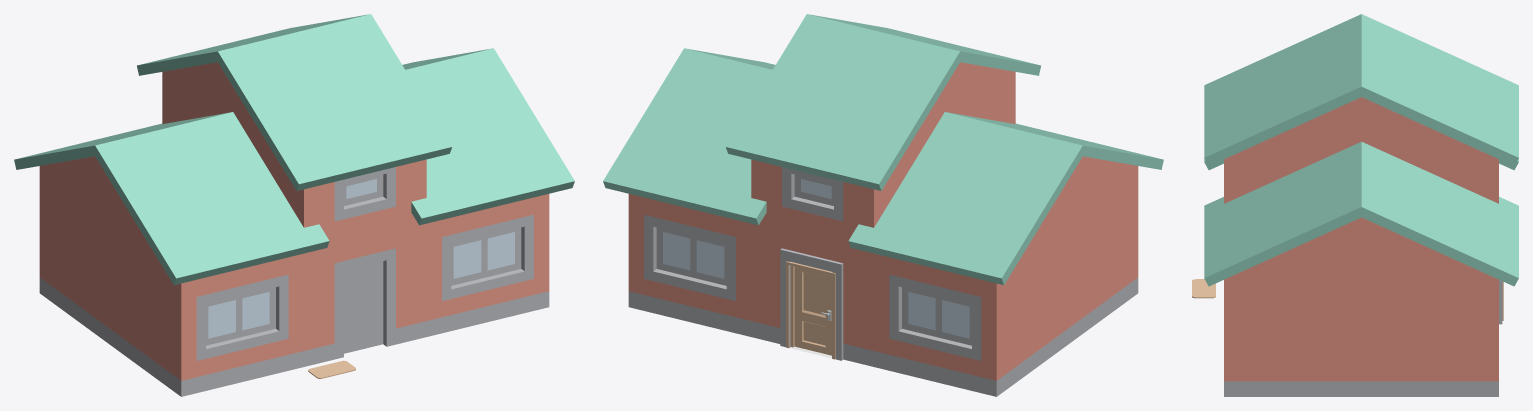
Rendered from player_house_stuff.gltf.
3 renders of one model, left to right at view 1: azimuth 30°, elevation 25°; view 2: azimuth 150°, elevation 25°; view 3: azimuth 270°, elevation 25°, orthographic. The views are drawn at different scales.
Visible parts, largest first — view 1: house_exterior, rugDoormat(Clone); view 2: house_exterior, door6, doorwayOpen(Clone); view 3: house_exterior, rugDoormat(Clone).
Part boxes in pixels (<box>): house_exterior: <box>14,14,574,396</box>; rugDoormat(Clone): <box>308,360,355,378</box>; house_exterior: <box>603,14,1163,396</box>; door6: <box>794,266,831,355</box>; doorwayOpen(Clone): <box>786,261,835,359</box>; house_exterior: <box>1204,14,1518,396</box>; rugDoormat(Clone): <box>1192,279,1215,298</box>.
Bounding box in the file's own units: 11.05 × 7.09 × 8.09.
